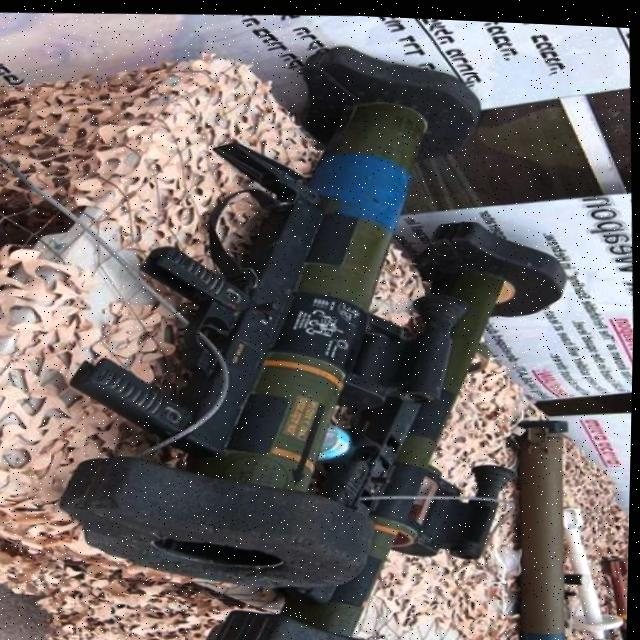rocket: (48, 21, 591, 615)
